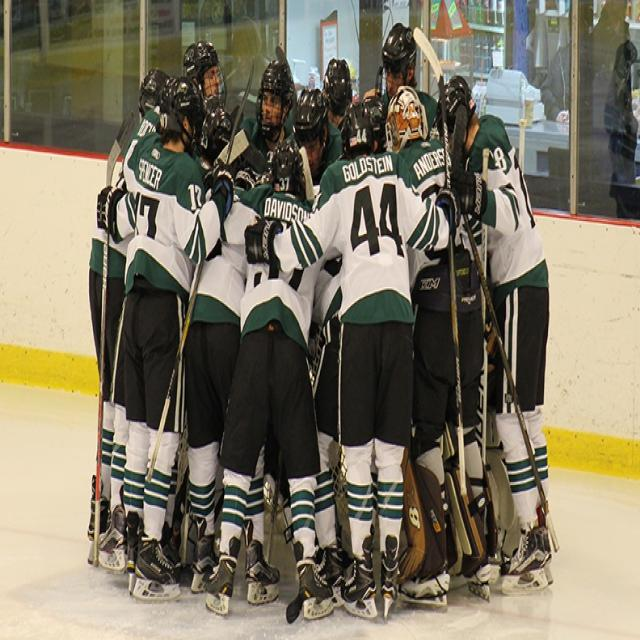body: (239, 93, 465, 626), (95, 73, 236, 604), (199, 127, 344, 628), (430, 66, 558, 600), (381, 83, 501, 610), (182, 154, 284, 604), (86, 65, 170, 542), (540, 33, 639, 218), (308, 254, 344, 614), (231, 58, 307, 202), (378, 18, 440, 150), (292, 83, 345, 188), (186, 94, 237, 190), (320, 56, 359, 164), (180, 37, 230, 119), (259, 418, 290, 541), (355, 90, 385, 144)
